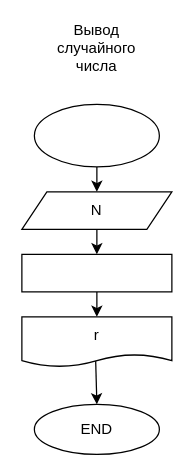
Some shapes in this 194 by 476 pixel diagram are drawn without their labels. The shapes that lost their labels are listed below. From the top down, each one's centre as x and y in pixels, then its label:
At (96,135): "START".
At (96,272): "r = random(1,N)".
